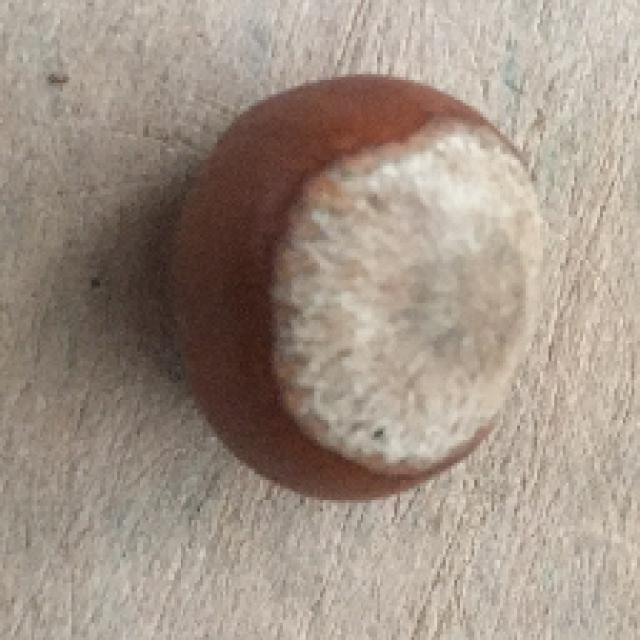qualityHazelnut: (170, 71, 547, 498)
